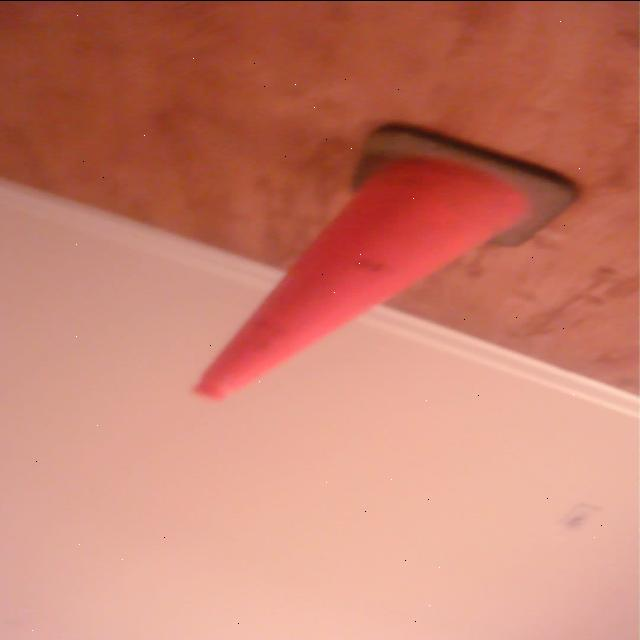traffic cone: (187, 116, 587, 404)
